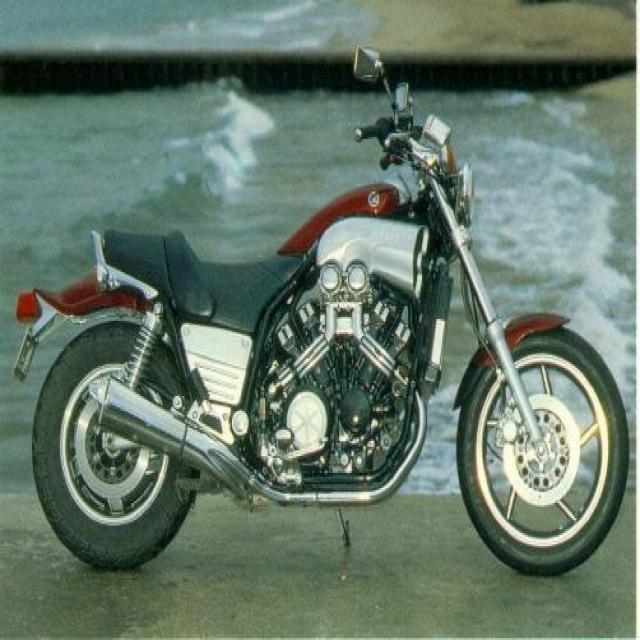Motorcycle: (21, 89, 634, 586)
